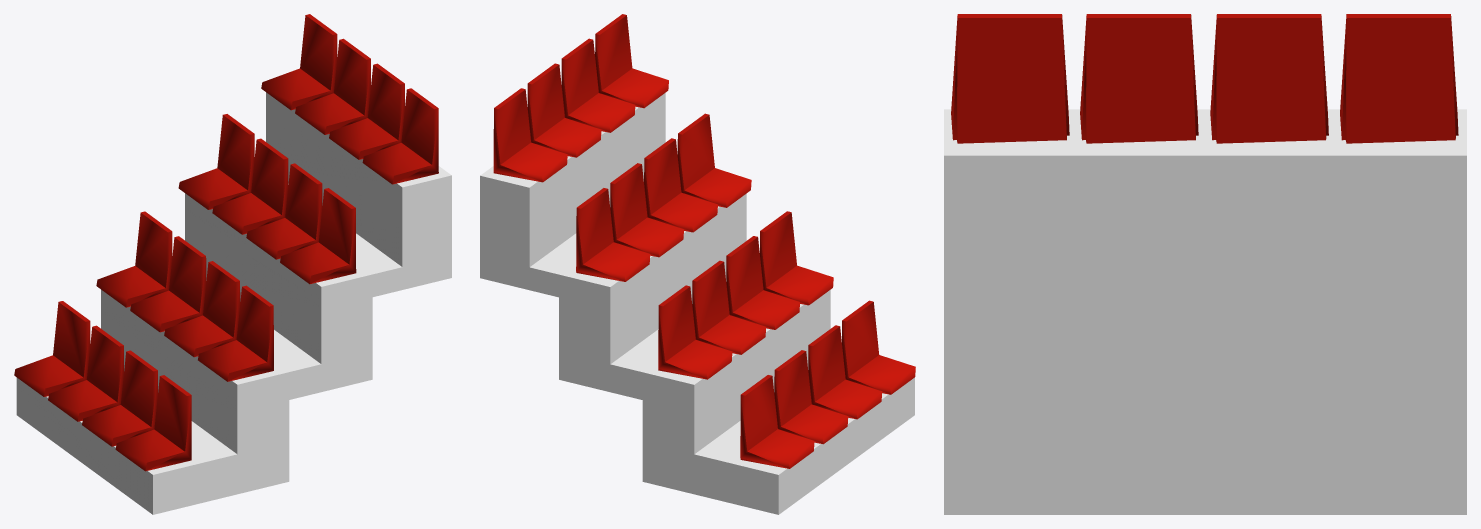
Rendered from seat.fbx.
3 renders of one model, left to right at view 1: azimuth 30°, elevation 25°; view 2: azimuth 150°, elevation 25°; view 3: azimuth 270°, elevation 25°, orthographic. The views are drawn at different scales.
Visible parts, largest first — view 1: Seats, Cube; view 2: Seats, Cube; view 3: Cube, Seats.
Part boxes in pixels (x1,y1,x2,y2): Seats: [14, 14, 438, 471]; Cube: [16, 92, 451, 514]; Seats: [493, 14, 915, 468]; Cube: [480, 93, 914, 514]; Cube: [944, 109, 1466, 514]; Seats: [951, 14, 1458, 143].
Size of the model in its own units: 530 by 553 by 409.
